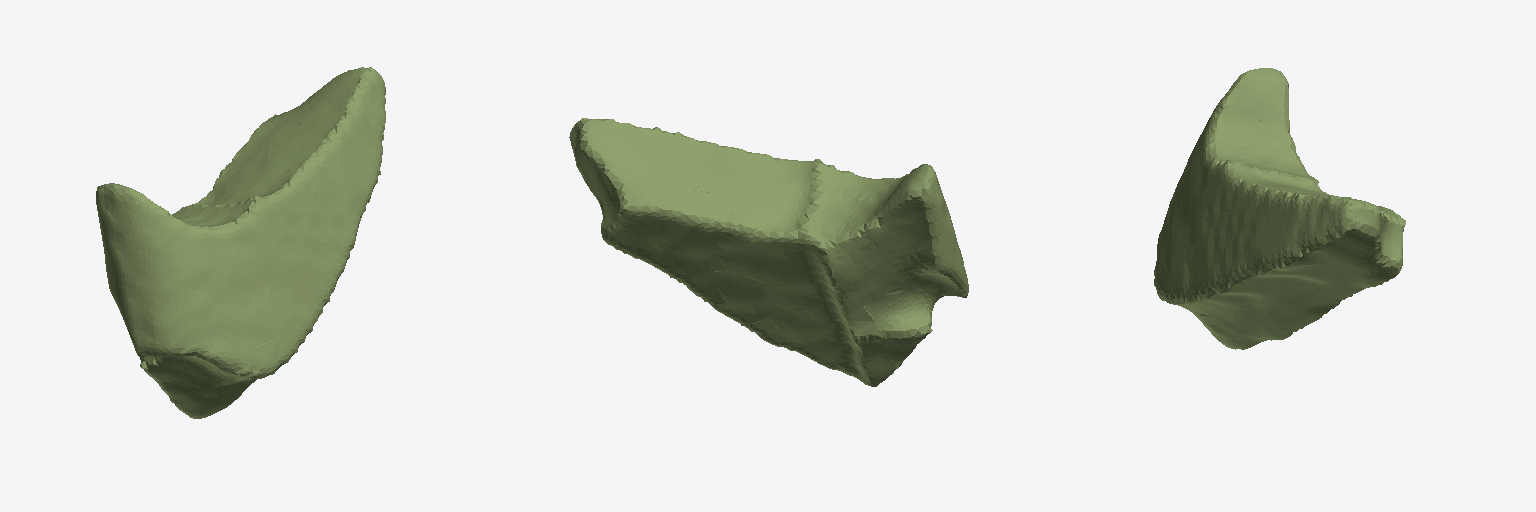
File: Model_31_RH__Area_4_of_cortex__parts_a_and_b_(primary_motor)_(A4ab).obj
3 renders of one model, left to right at view 1: azimuth 30°, elevation 25°; view 2: azimuth 150°, elevation 25°; view 3: azimuth 270°, elevation 25°, orthographic.
Size of the model in its own units: 6.19 by 4.63 by 4.17.